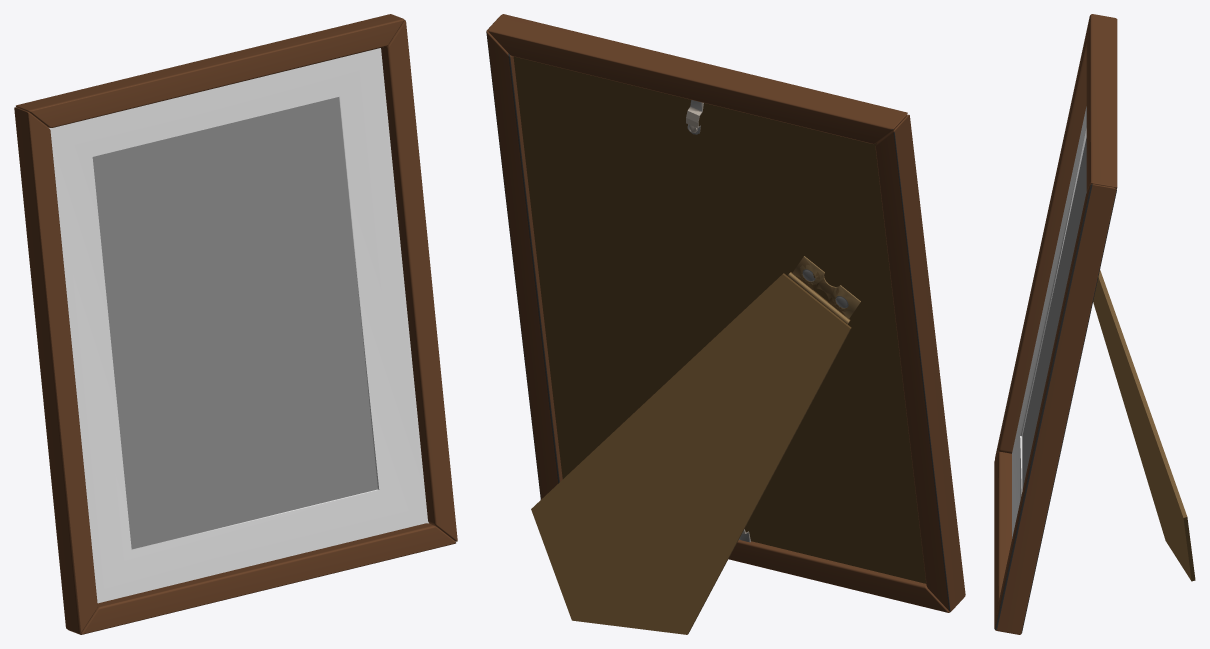
Rendered from standing-picture-frame.glb.
3 views of the same model, side by side, from view 1: azimuth 30°, elevation 25°; view 2: azimuth 150°, elevation 25°; view 3: azimuth 270°, elevation 25° (orthographic). The views are drawn at different scales.
Visible parts, largest first — view 1: standing-picture-frame; view 2: standing-picture-frame; view 3: standing-picture-frame.
Part boxes in pixels (x1,y1,x2,y2): standing-picture-frame: (14,14,457,634); standing-picture-frame: (486,14,965,634); standing-picture-frame: (994,14,1195,634).
Bounding box in the file's own units: 0.2008 × 0.2497 × 0.1003.
